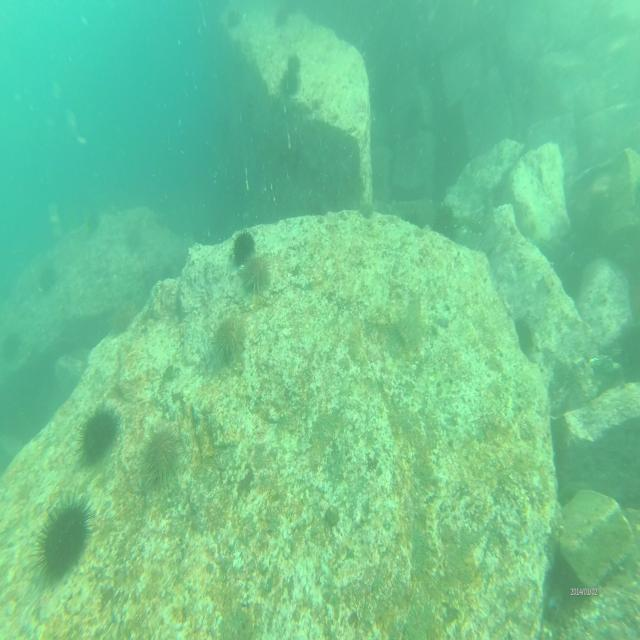echinus: (32, 489, 92, 584), (74, 400, 122, 461), (146, 425, 184, 487), (211, 312, 243, 363), (241, 249, 272, 300), (512, 310, 540, 364), (230, 226, 258, 268), (433, 199, 455, 244), (277, 68, 303, 102), (0, 327, 22, 366), (36, 265, 57, 296), (285, 46, 303, 79), (85, 206, 102, 236), (226, 6, 244, 30), (275, 1, 287, 30), (284, 0, 302, 19)
